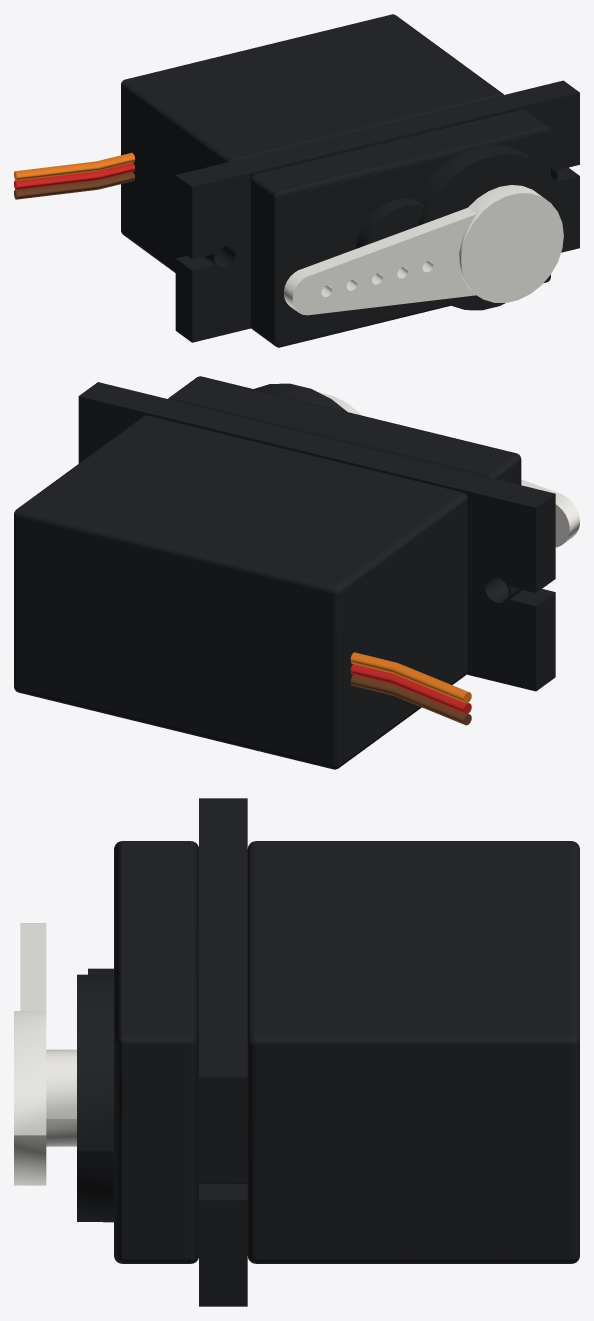
Rendered from pololu-2818-fs90.glb.
3 renders of one model, top to bottom at view 1: azimuth 30°, elevation 25°; view 2: azimuth 150°, elevation 25°; view 3: azimuth 270°, elevation 25°, orthographic. The views are drawn at different scales.
Parts seen in each view (by area): view 1: body, body_top, tabs, horn, gear_tower, cable_3, cable_1, cable_2, mount_hole_1; view 2: body, tabs, body_top, cable_3, horn, cable_2, cable_1, gear_tower, mount_hole_1; view 3: body, body_top, tabs, gear_tower, horn, spline.
Part boxes in pixels (x1,y1,x2,y2): body: [121, 14, 503, 272]; body_top: [250, 109, 550, 347]; tabs: [175, 80, 579, 342]; horn: [284, 185, 563, 315]; gear_tower: [355, 145, 563, 310]; cable_3: [14, 152, 135, 180]; cable_1: [14, 172, 135, 199]; cable_2: [14, 162, 135, 190]; mount_hole_1: [204, 244, 237, 269]; body: [14, 415, 467, 769]; tabs: [78, 382, 555, 691]; body_top: [168, 376, 521, 484]; cable_3: [350, 652, 471, 703]; horn: [319, 392, 579, 547]; cable_2: [350, 664, 471, 714]; cable_1: [350, 675, 471, 725]; gear_tower: [254, 383, 347, 411]; mount_hole_1: [483, 575, 522, 604]; body: [247, 841, 579, 1263]; body_top: [114, 841, 198, 1263]; tabs: [199, 798, 247, 1306]; gear_tower: [77, 968, 113, 1222]; horn: [14, 923, 46, 1185]; spline: [46, 1049, 76, 1146].
Size of the model in its own units: 36.99 by 12.54 by 27.94.
